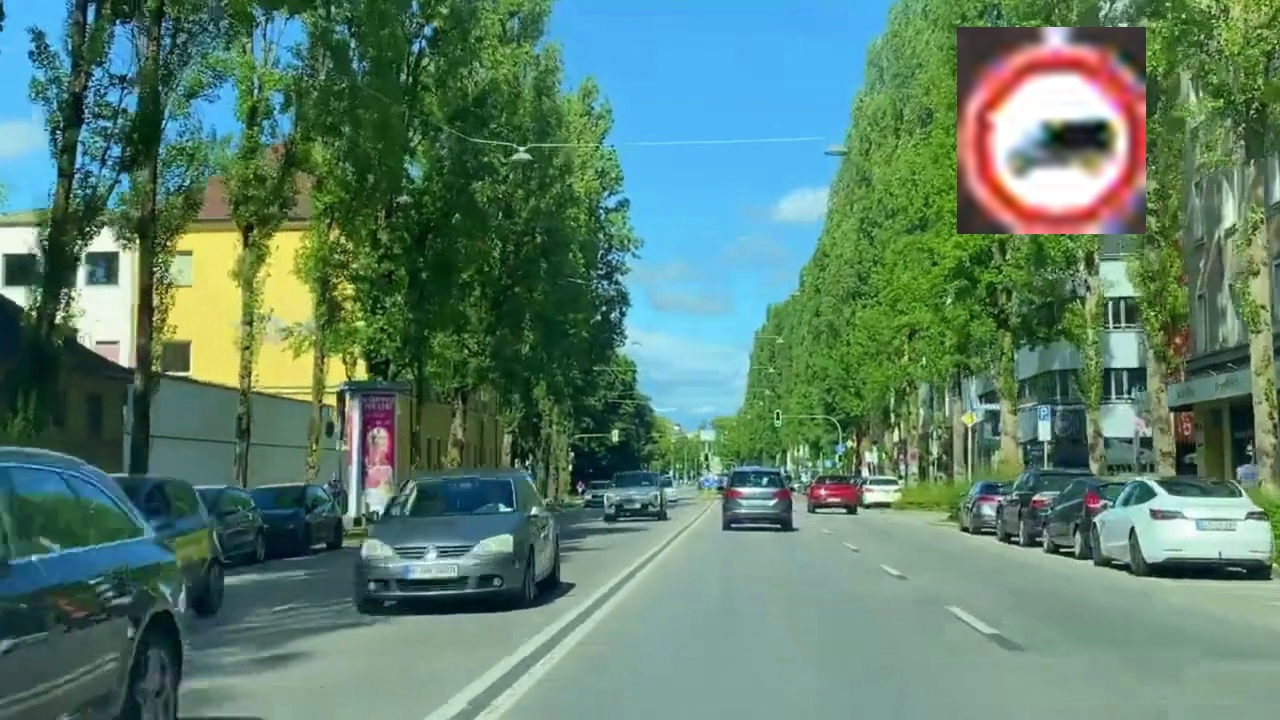Veh >3.5t prohib: (957, 27, 1146, 234)
